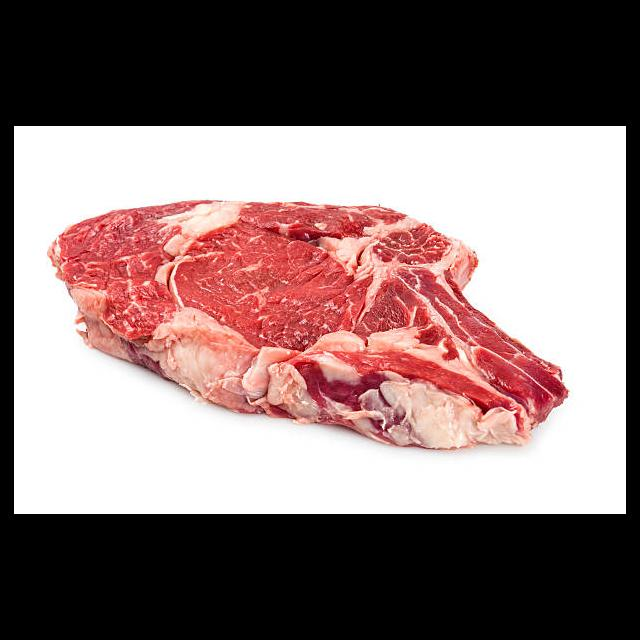beef: (48, 200, 569, 451)
